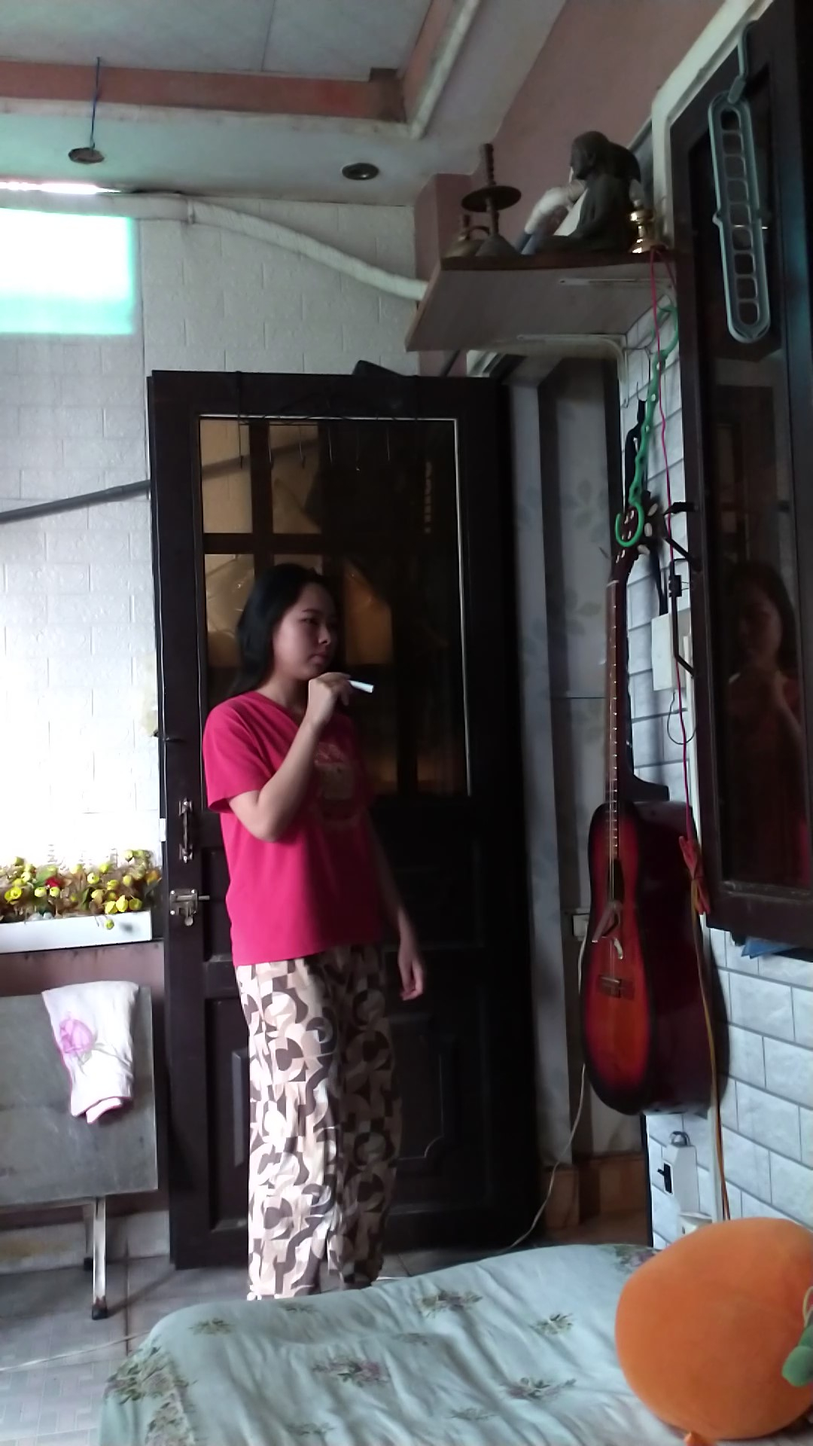cigarette: (349, 677, 379, 697)
person: (200, 558, 428, 1322)
